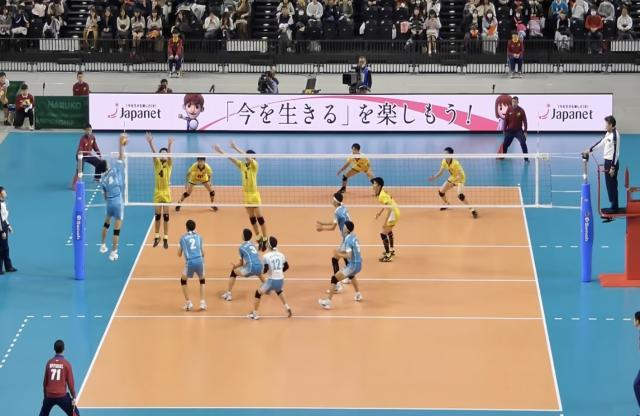spike: (91, 130, 134, 266)
